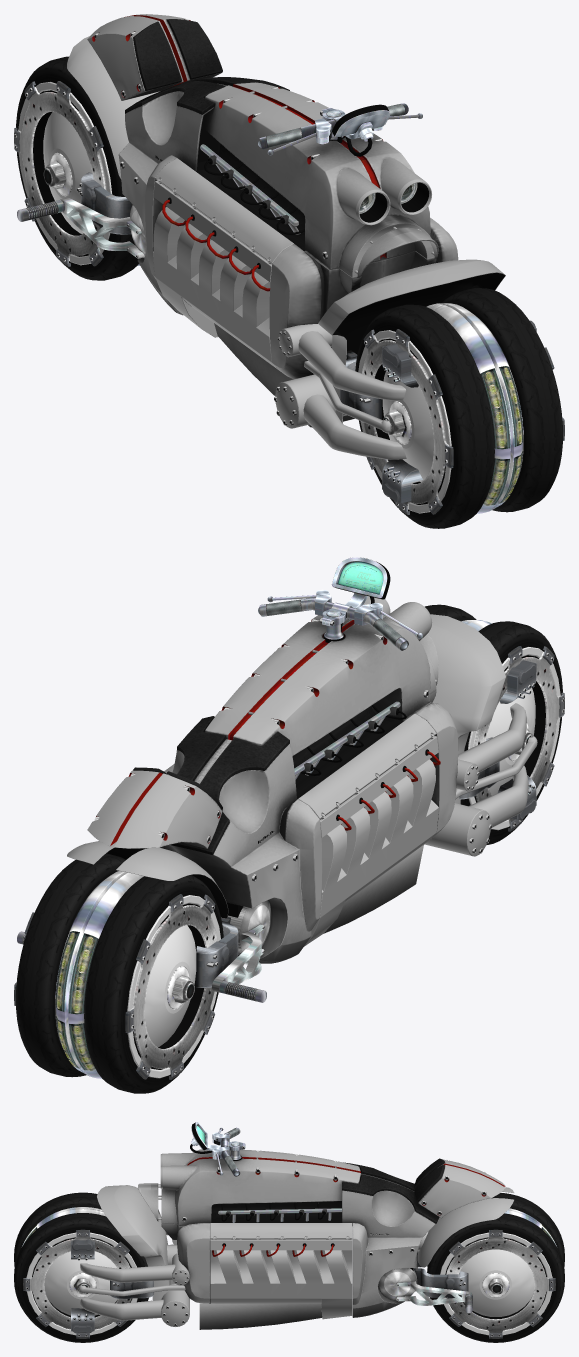
Rendered from 道奇战斧.glb.
The picture shows the model from 3 angles, top to bottom: view 1: azimuth 30°, elevation 25°; view 2: azimuth 150°, elevation 25°; view 3: azimuth 270°, elevation 25°; orthographic projection. The views are drawn at different scales.
Visible parts, largest first — view 1: Object_2, Object_7, Object_17, Object_3, Object_11, Object_13, Object_5, Object_8, Object_10, Object_14, Object_12, Object_6; view 2: Object_2, Object_7, Object_17, Object_3, Object_11, Object_13, Object_8, Object_10, Object_5, Object_14, Object_12, Object_16 (+1 smaller); view 3: Object_2, Object_7, Object_3, Object_17, Object_13, Object_11, Object_14, Object_8, Object_12, Object_5, Object_6.
Boxes of the visible parts, box(x1,y1,x2,y2) form: Object_2: box(87, 14, 458, 427); Object_7: box(67, 36, 505, 459); Object_17: box(16, 56, 562, 528); Object_3: box(14, 81, 564, 514); Object_11: box(14, 19, 446, 508); Object_13: box(43, 112, 446, 482); Object_5: box(33, 90, 505, 504); Object_8: box(14, 19, 447, 509); Object_10: box(480, 366, 523, 505); Object_14: box(18, 82, 451, 513); Object_12: box(43, 15, 391, 433); Object_6: box(168, 104, 428, 268); Object_2: box(87, 596, 458, 963); Object_7: box(67, 599, 537, 946); Object_17: box(16, 604, 562, 1093); Object_3: box(14, 557, 564, 1079); Object_11: box(22, 599, 564, 1073); Object_13: box(132, 687, 535, 1047); Object_8: box(17, 596, 564, 1074); Object_10: box(55, 931, 98, 1070); Object_5: box(106, 655, 545, 1069); Object_14: box(127, 647, 560, 1078); Object_12: box(96, 619, 531, 999); Object_16: box(337, 561, 383, 594); Object_2: box(138, 1149, 505, 1329); Object_7: box(79, 1153, 514, 1326); Object_3: box(22, 1122, 556, 1338); Object_17: box(14, 1192, 564, 1342); Object_13: box(44, 1249, 534, 1316); Object_11: box(26, 1128, 552, 1336); Object_14: box(26, 1232, 552, 1335); Object_8: box(26, 1127, 552, 1336); Object_12: box(78, 1156, 505, 1293); Object_5: box(32, 1202, 546, 1330); Object_6: box(190, 1122, 417, 1288).
Size of the model in its own units: 0.902 by 1.18 by 2.87.
Materials: 16 (10 with a texture image).
